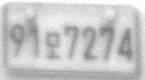1: (27, 23, 42, 62)
2: (81, 24, 99, 61)
4: (116, 26, 135, 64)
7: (61, 24, 80, 61), (97, 25, 116, 62)
9: (9, 22, 27, 57)
모: (43, 30, 63, 62)
